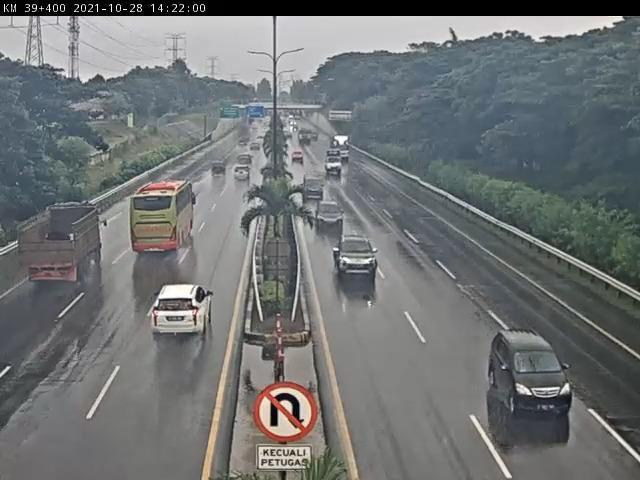bus: (133, 181, 198, 257)
car: (489, 330, 573, 417), (154, 285, 213, 343), (332, 237, 380, 277), (316, 199, 347, 231), (301, 175, 326, 200), (237, 153, 258, 170), (232, 167, 251, 183), (211, 162, 227, 177), (292, 150, 304, 164)
truck: (19, 207, 103, 287), (326, 151, 345, 176)
